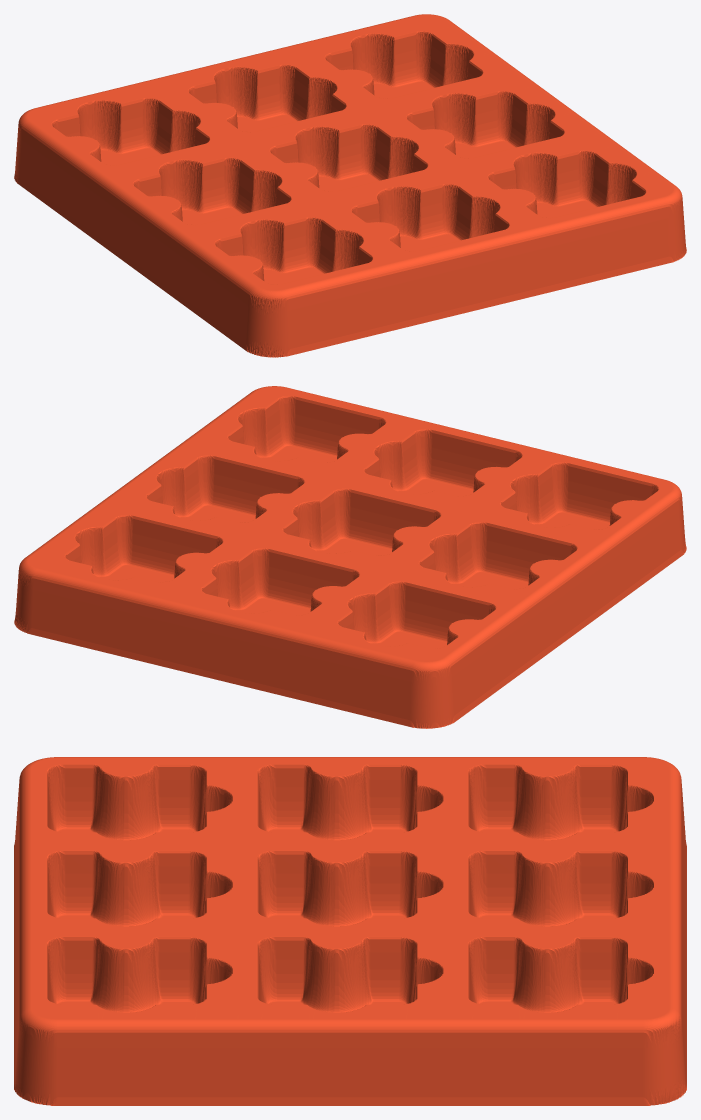
File: mold.glb
3 renders of one model, top to bottom at view 1: azimuth 30°, elevation 25°; view 2: azimuth 150°, elevation 25°; view 3: azimuth 270°, elevation 25°, orthographic. The views are drawn at different scales.
Parts seen in each view (by area): view 1: geometry_0; view 2: geometry_0; view 3: geometry_0.
Part boxes in pixels (x1,y1,x2,y2): geometry_0: (14, 14, 686, 357); geometry_0: (14, 386, 686, 728); geometry_0: (14, 757, 686, 1105).
Bounding box in the file's own units: 0.1359 × 0.0182 × 0.1402.
